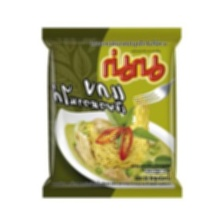snack: (34, 18, 189, 203)
